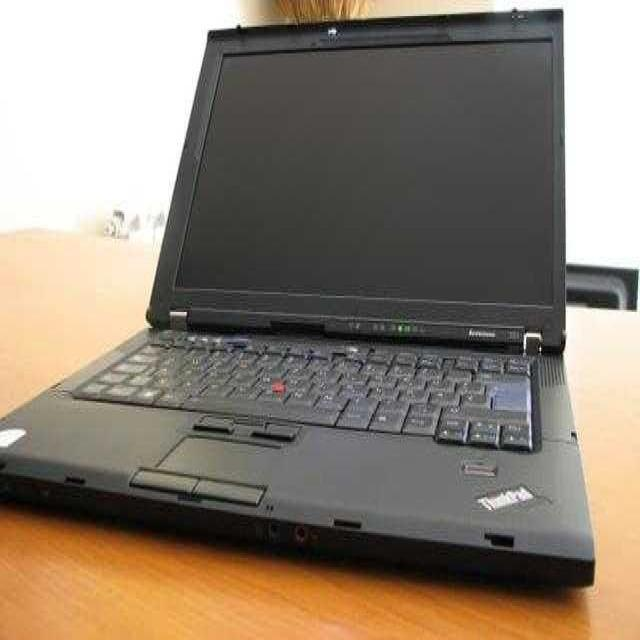laptop: (4, 14, 566, 522)
